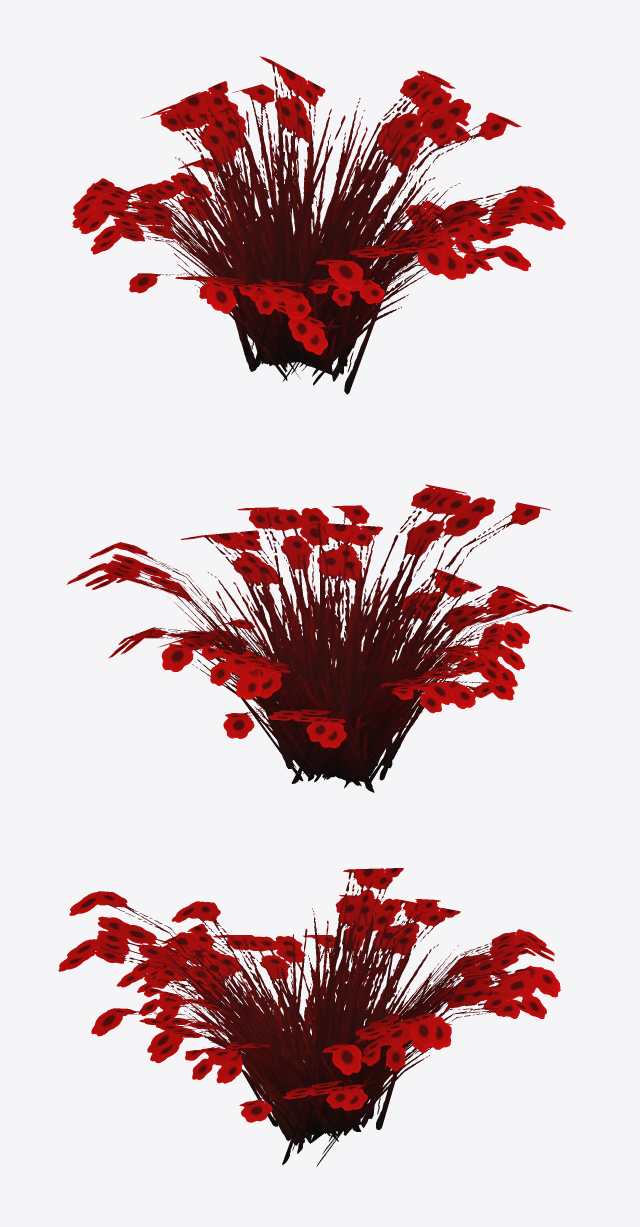
Rendered from bush_tundra_cottongrass_a.glb.
3 views of the same model, one above another, from view 1: azimuth 30°, elevation 25°; view 2: azimuth 150°, elevation 25°; view 3: azimuth 270°, elevation 25° (orthographic). The views are drawn at different scales.
Visible parts, largest first — view 1: bush_tundra_cottongrass_a; view 2: bush_tundra_cottongrass_a; view 3: bush_tundra_cottongrass_a.
Boxes of the visible parts, left/top/right/bottom form: bush_tundra_cottongrass_a: left=72, top=56, right=565, bottom=394; bush_tundra_cottongrass_a: left=66, top=484, right=572, bottom=792; bush_tundra_cottongrass_a: left=58, top=868, right=560, bottom=1166.
Bounding box in the file's own units: 1.09 × 0.5977 × 1.12.
Materials: 1 (1 with a texture image).
